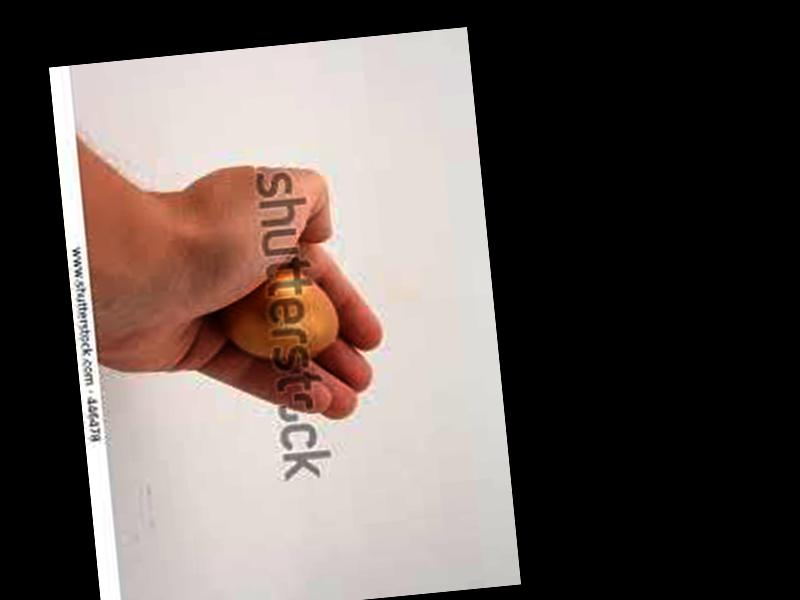Eggs: (219, 267, 341, 365)
